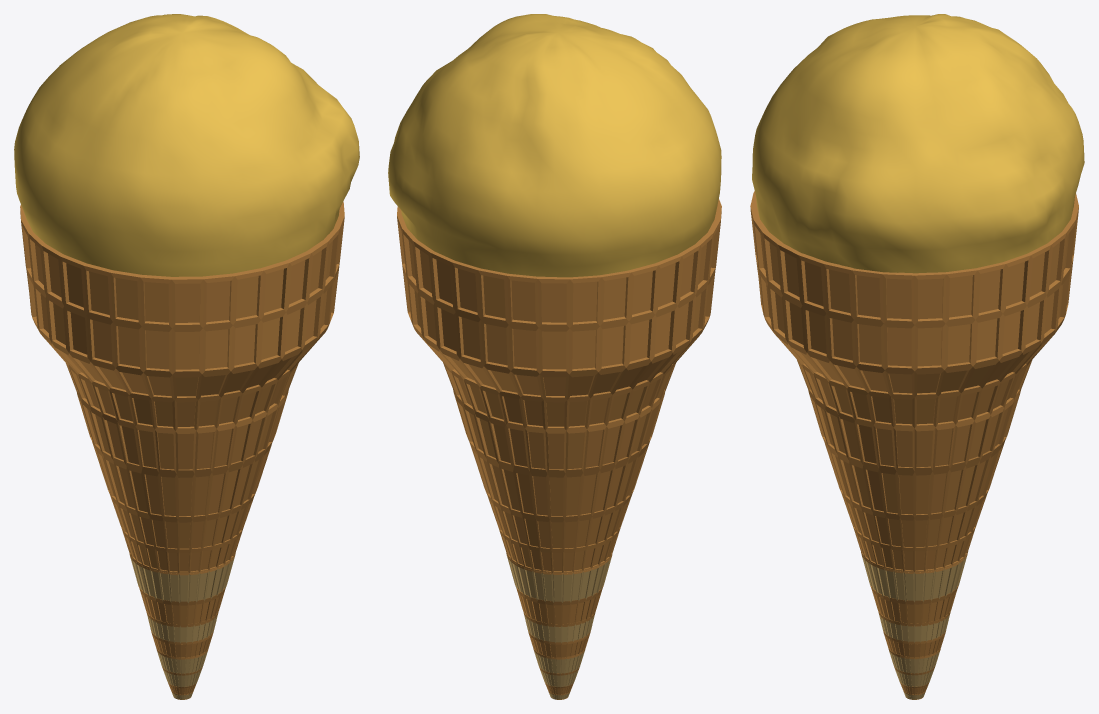
File: smallIce.fbx
3 views of the same model, side by side, from view 1: azimuth 30°, elevation 25°; view 2: azimuth 150°, elevation 25°; view 3: azimuth 270°, elevation 25° (orthographic).
Parts seen in each view (by area): view 1: Cylinder.001; view 2: Cylinder.001; view 3: Cylinder.001.
Part boxes in pixels (x1,y1,x2,y2): Cylinder.001: (14, 14, 359, 699); Cylinder.001: (388, 14, 721, 699); Cylinder.001: (750, 14, 1084, 699).
Bounding box in the file's own units: 266 × 572 × 258.
